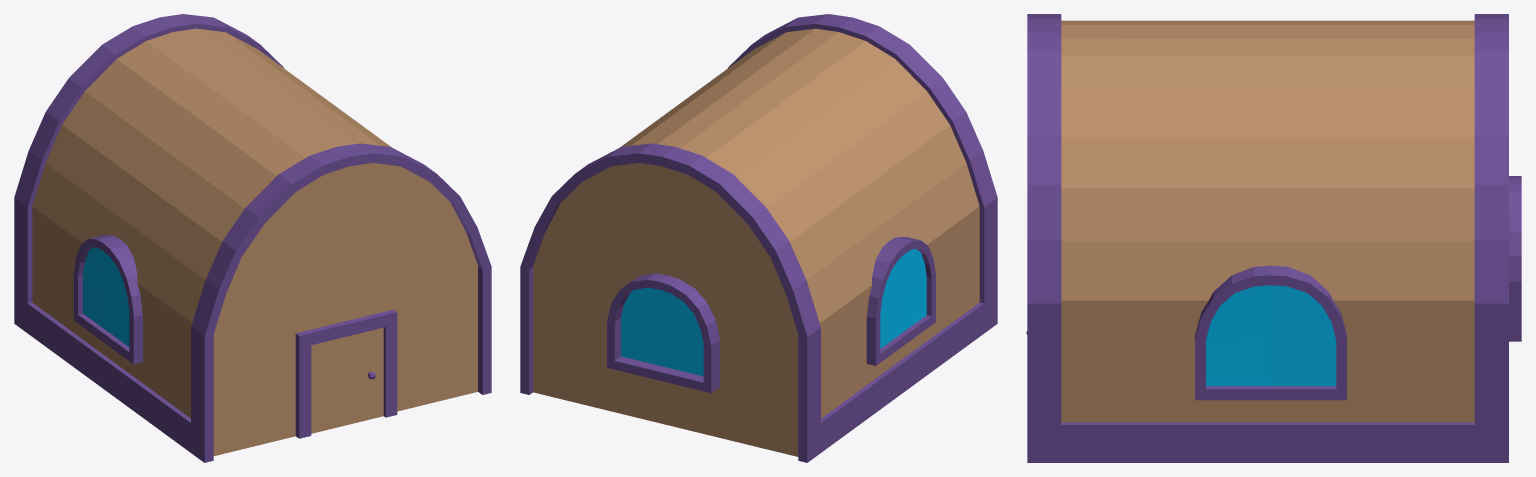
The model's file is CajaCasa 1.1.fbx.
The picture shows the model from 3 angles, left to right: view 1: azimuth 30°, elevation 25°; view 2: azimuth 150°, elevation 25°; view 3: azimuth 270°, elevation 25°; orthographic projection. The views are drawn at different scales.
Visible parts, largest first — view 1: Base 1.1; view 2: Base 1.1; view 3: Base 1.1.
Boxes of the visible parts, box(x1,y1,x2,y2) form: Base 1.1: box(14, 14, 491, 462); Base 1.1: box(520, 14, 997, 462); Base 1.1: box(1026, 14, 1521, 462).
Bounding box in the file's own units: 1007 × 883 × 1157.
